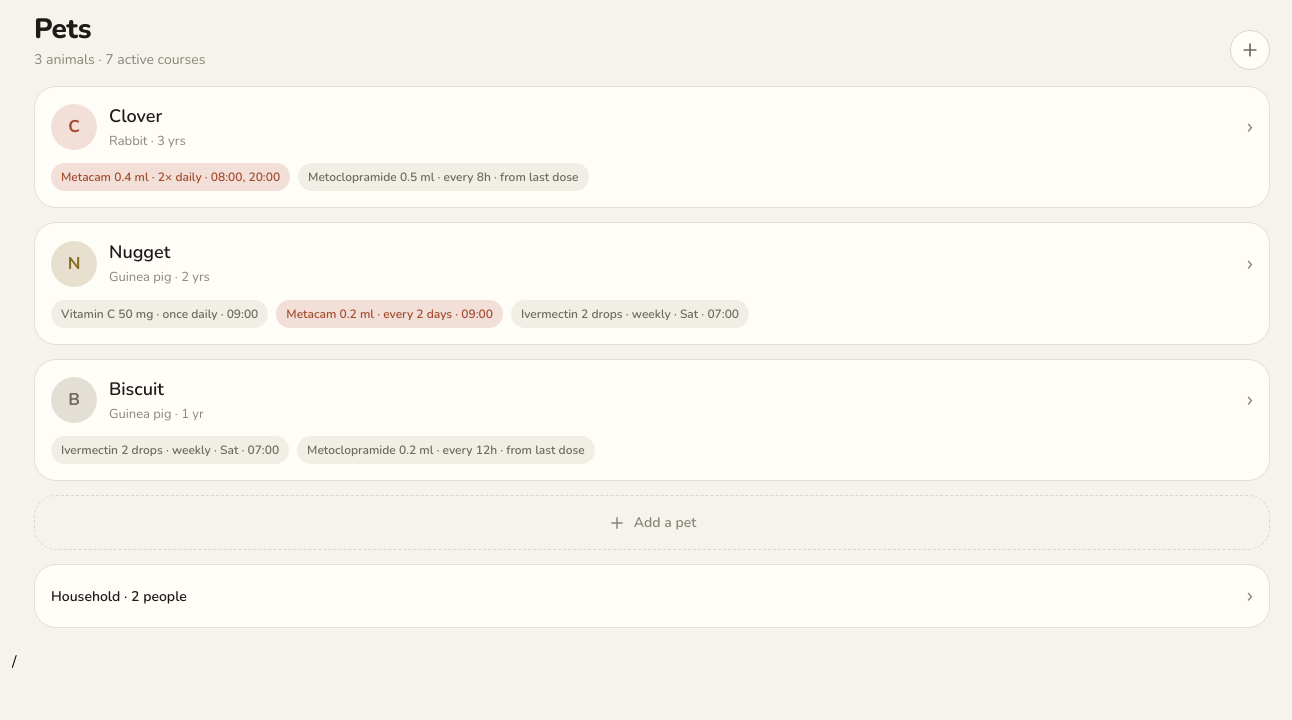
it: PetsPage › navigates to /pets/new when the roster's 'Add a pet' control is activated
The image size is (1292, 720).
Expected: the text "Clover" is shown, [109,104,162,128]
Click the button "Add a pet" at (652, 523), box [34,495,1270,550]
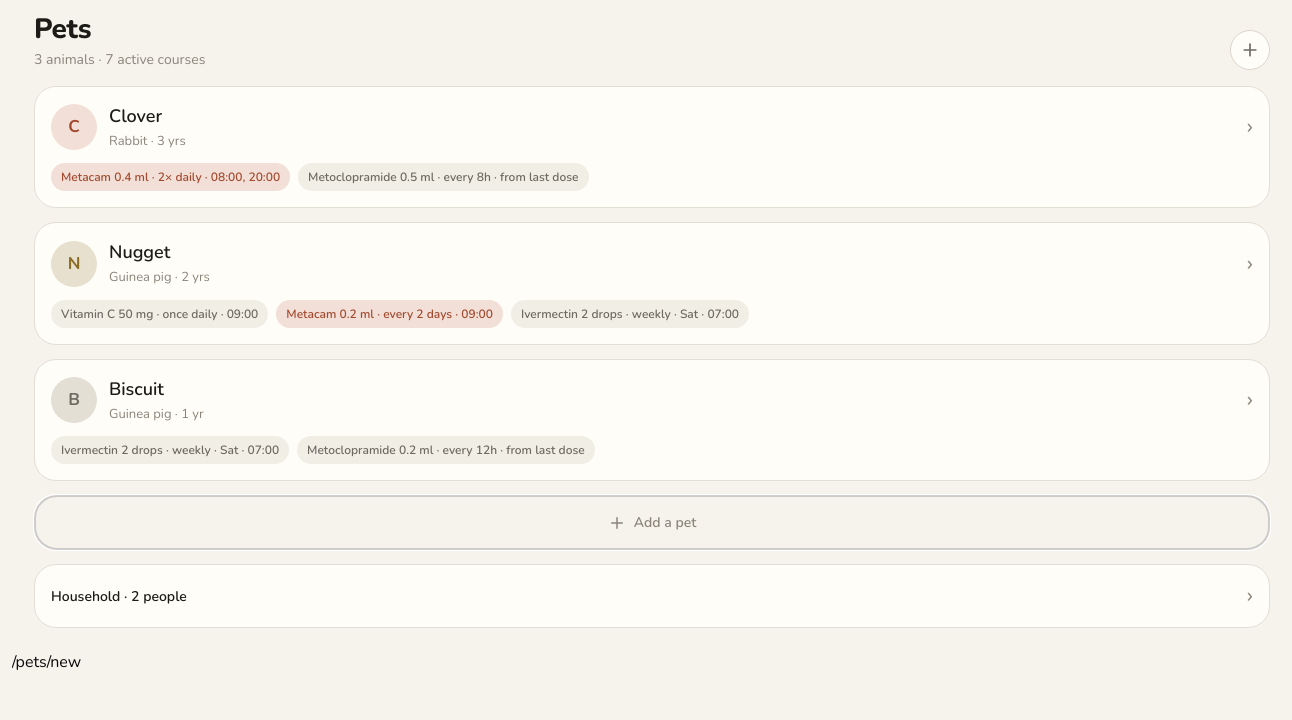
Expected: the text with test id "pathname" reads "/pets/new", [12,651,81,673]
